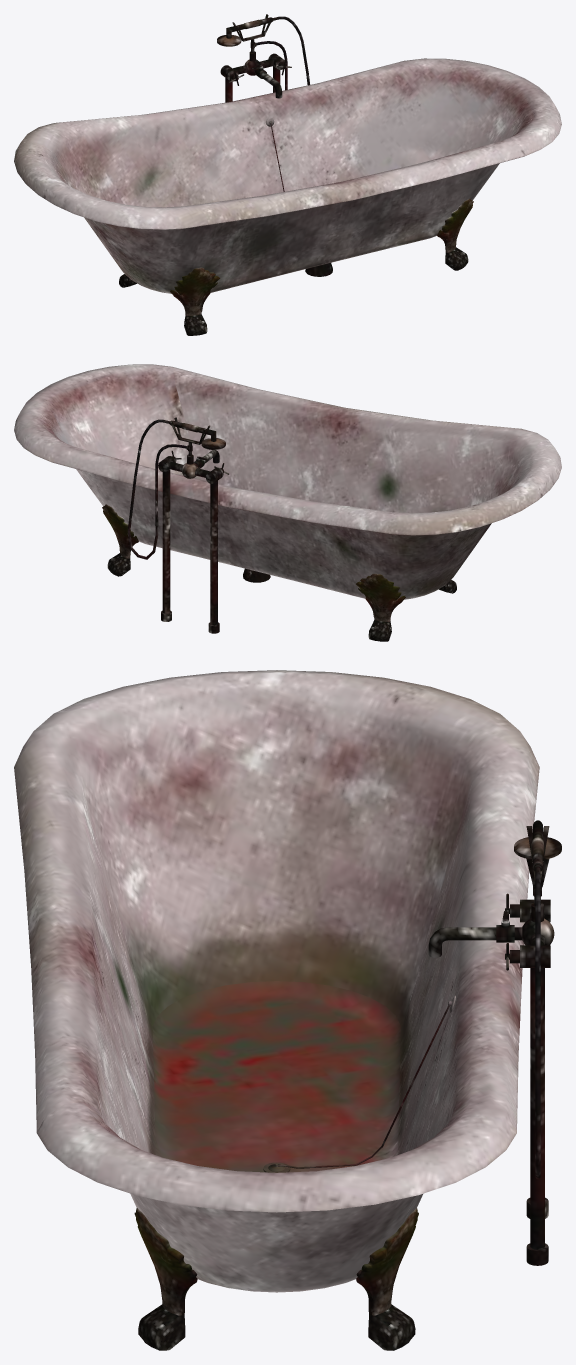
3 renders of one model, top to bottom at view 1: azimuth 30°, elevation 25°; view 2: azimuth 150°, elevation 25°; view 3: azimuth 270°, elevation 25°, orthographic. The views are drawn at different scales.
Visible parts, largest first — view 1: SM_Bathtub; view 2: SM_Bathtub; view 3: SM_Bathtub.
Part boxes in pixels (left/top/right/bottom): SM_Bathtub: left=14, top=14, right=561, bottom=335; SM_Bathtub: left=14, top=364, right=561, bottom=641; SM_Bathtub: left=14, top=670, right=561, bottom=1350.
Bounding box in the file's own units: 186 × 71.35 × 89.3.
1 material, 1 textured.
